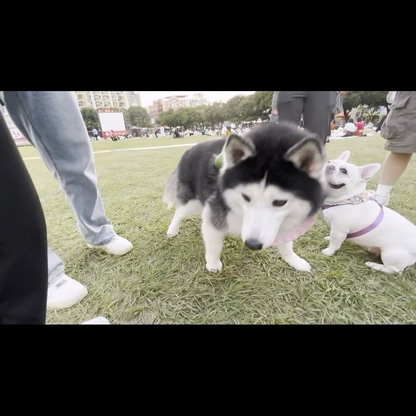bulldog: (319, 148, 416, 279)
husky: (162, 118, 326, 284)
